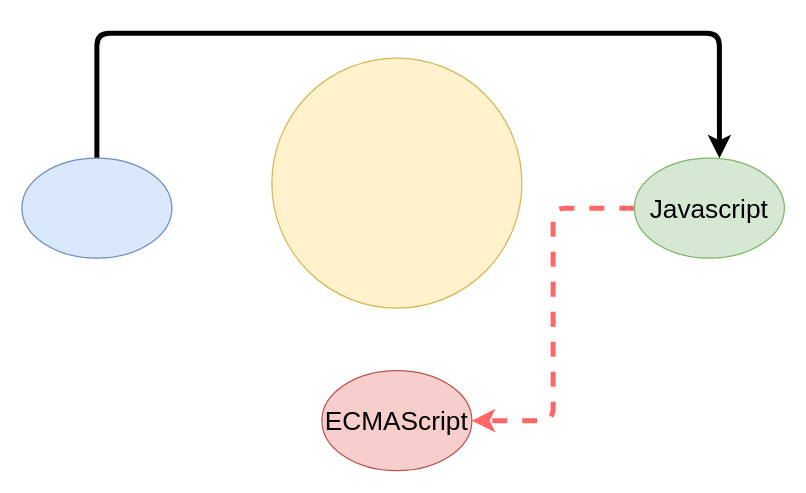
Some shapes in this 806 by 493 pixel diagram are drawn without their labels. Here are the shapes that lost their labels. From the top down, the box of each, then its label:
(271, 57, 522, 308): NetScape Scripting Engine
(21, 157, 172, 258): Mocha Livescript
